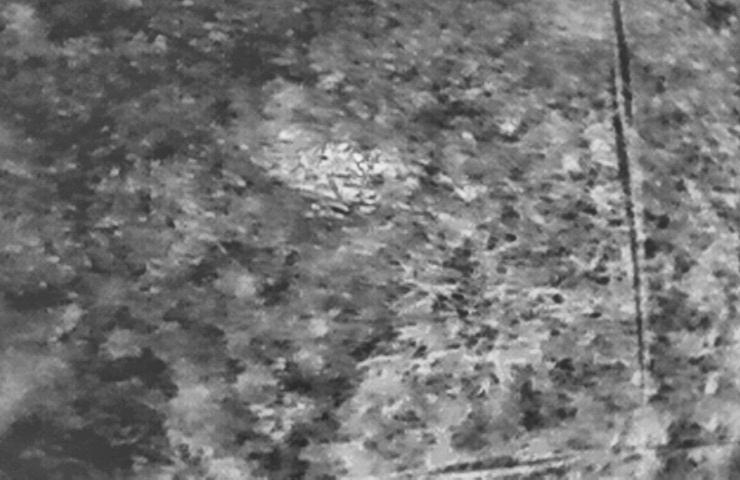landmines: (269, 122, 415, 214)
